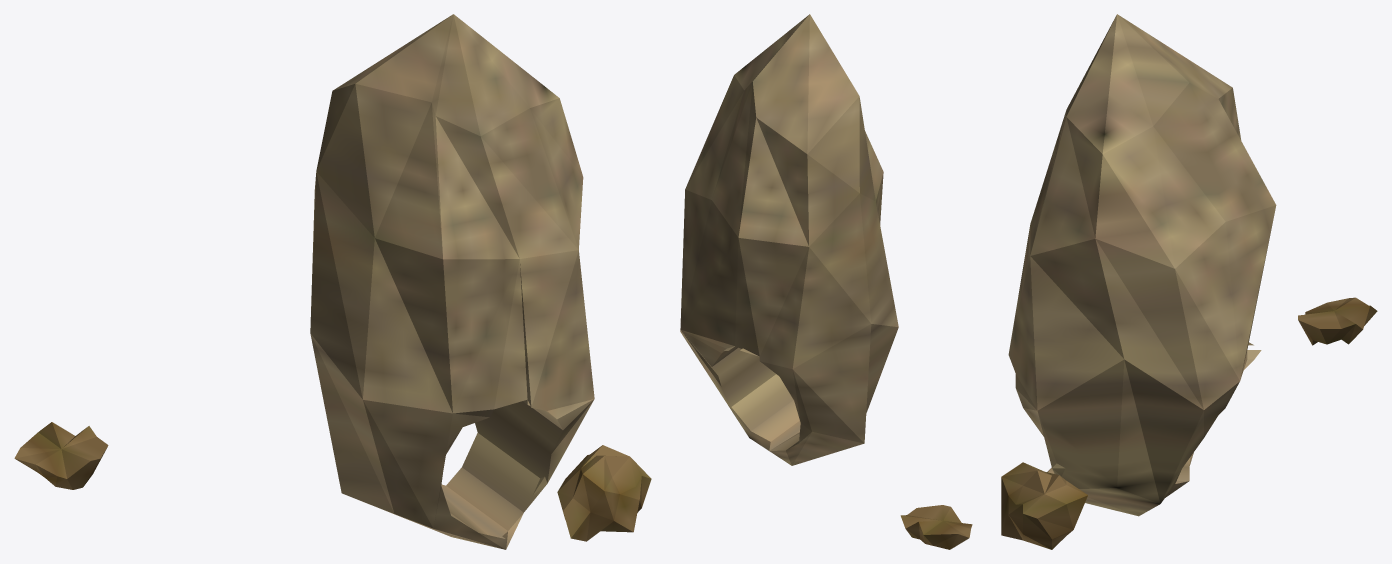
The model's file is Scenary.glb.
3 renders of one model, left to right at view 1: azimuth 30°, elevation 25°; view 2: azimuth 150°, elevation 25°; view 3: azimuth 270°, elevation 25°, orthographic. The views are drawn at different scales.
Parts seen in each view (by area): view 1: Scenary; view 2: Scenary; view 3: Scenary.
Boxes of the visible parts, left/top/right/bottom form: Scenary: left=14, top=14, right=651, bottom=549; Scenary: left=680, top=14, right=972, bottom=549; Scenary: left=1001, top=14, right=1377, bottom=549.
Size of the model in its own units: 151 by 167 by 114.
Materials: 1 (1 with a texture image).
